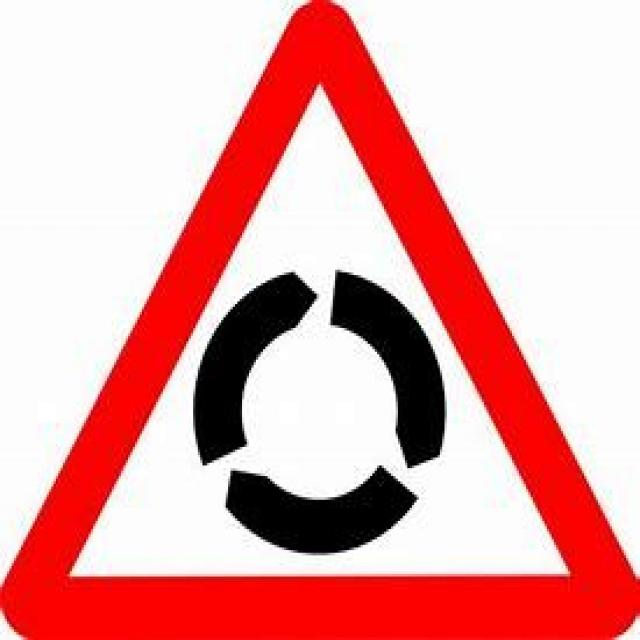ROUNDABOUT: (0, 0, 637, 637)
